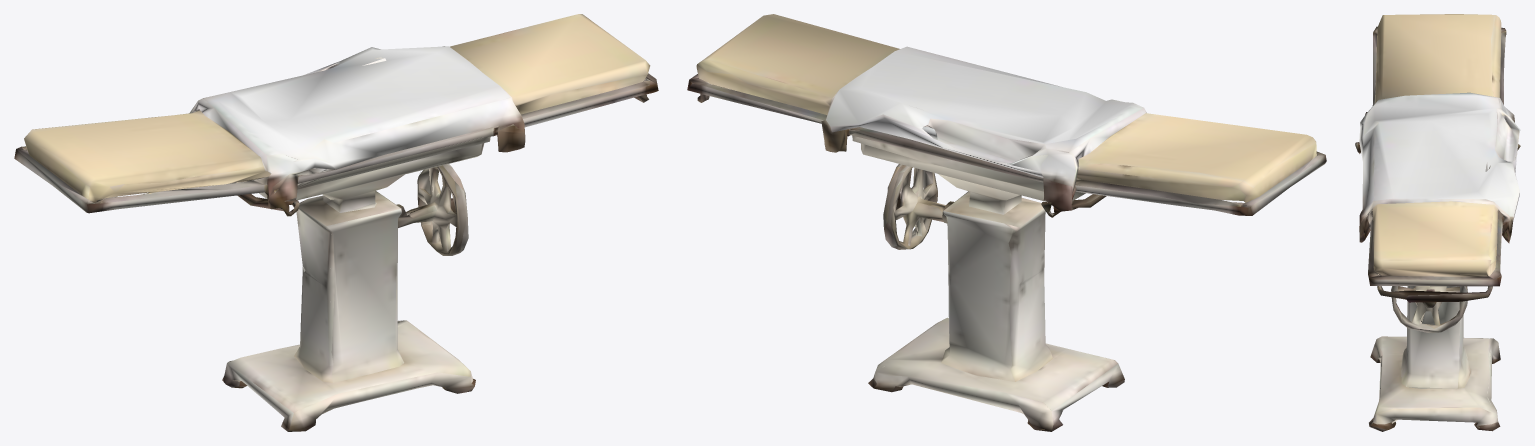
Rendered from mesa_operaciones.movil.glb.
3 renders of one model, left to right at view 1: azimuth 30°, elevation 25°; view 2: azimuth 150°, elevation 25°; view 3: azimuth 270°, elevation 25°, orthographic. The views are drawn at different scales.
Parts seen in each view (by area): view 1: geometry_0; view 2: geometry_0; view 3: geometry_0.
Boxes of the visible parts, x1,y1,x2,y2 form: geometry_0: (14, 14, 658, 431); geometry_0: (687, 14, 1326, 431); geometry_0: (1355, 14, 1520, 431).
Bounding box in the file's own units: 1.89 × 0.9464 × 0.55.
1 material, 1 textured.
